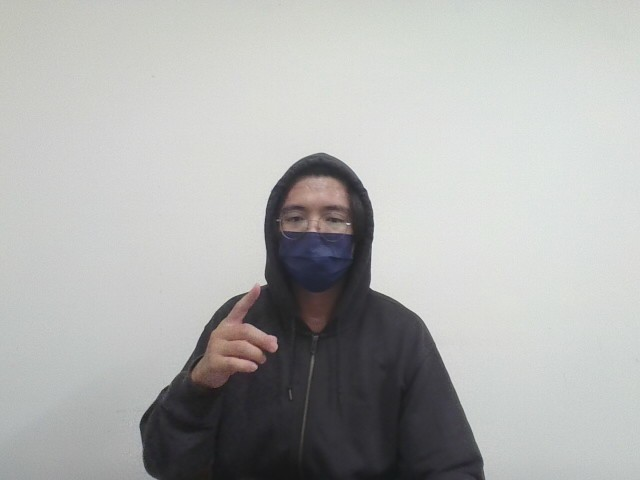No_Gloves: (187, 281, 280, 394)
No_Helmet: (258, 147, 376, 295)
person: (121, 129, 524, 480)
